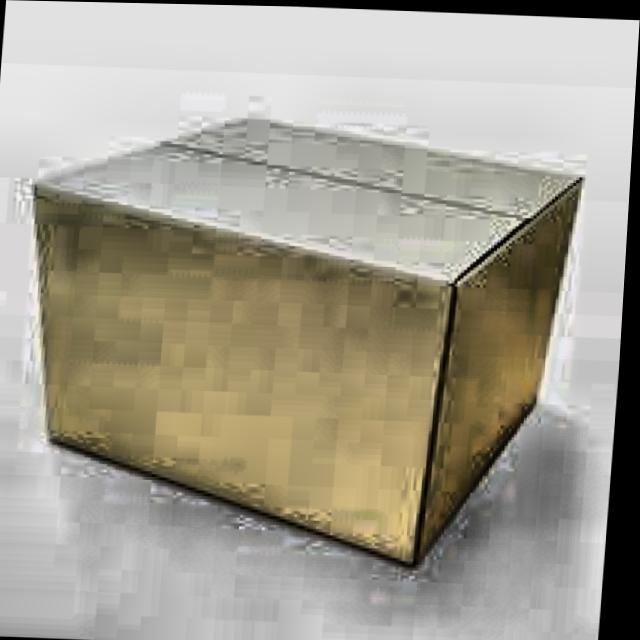Cardbox: (0, 97, 614, 591)
